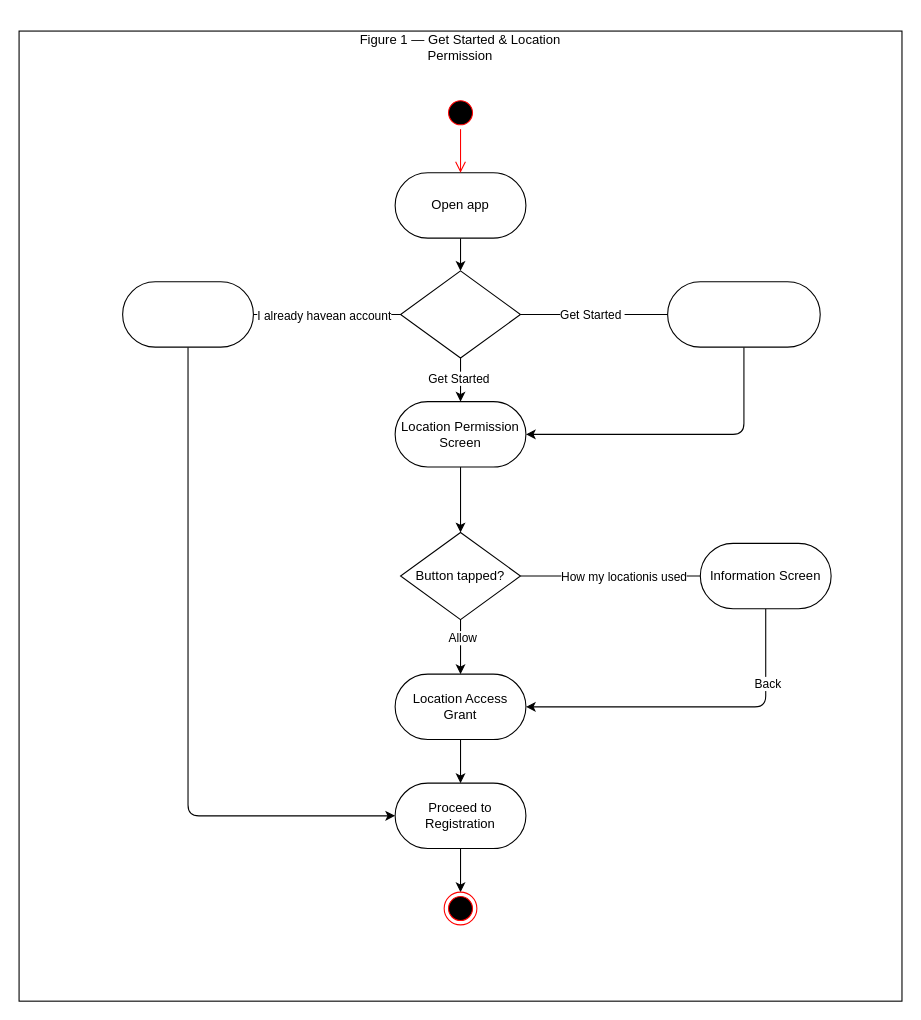
Image size: 921x1020. Some labels were removed from this diagram. The shapes that lost their labels are listed below. From the top down, each one's centre as x and y in pixels, then its label:
At point 187,314: "Login Sreen".
At point 459,314: "Which option selected?".
At point 743,314: "Location Permission".
